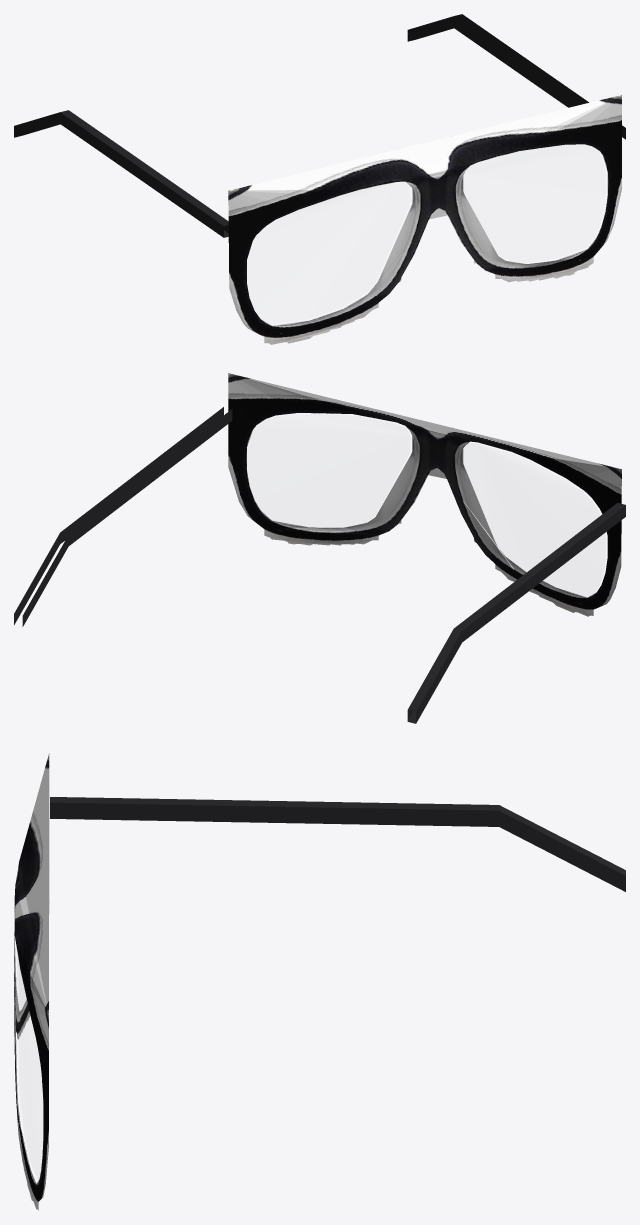
The model's file is gothamstyle-matte-collection-254_crystal-matte-black.glb.
The picture shows the model from 3 angles, top to bottom: view 1: azimuth 30°, elevation 25°; view 2: azimuth 150°, elevation 25°; view 3: azimuth 270°, elevation 25°; orthographic projection. The views are drawn at different scales.
Visible parts, largest first — view 1: frame_front, temple_viewer_left, temple_viewer_right; view 2: frame_front, temple_viewer_left, temple_viewer_right; view 3: temple_viewer_left, frame_front.
Part boxes in pixels (x1=…): frame_front: x1=228, y1=95, x2=621, y2=344; temple_viewer_left: x1=14, y1=110, x2=228, y2=237; temple_viewer_right: x1=407, y1=14, x2=625, y2=139; frame_front: x1=228, y1=373, x2=621, y2=616; temple_viewer_left: x1=407, y1=503, x2=625, y2=723; temple_viewer_right: x1=14, y1=407, x2=232, y2=626; temple_viewer_left: x1=50, y1=797, x2=625, y2=891; frame_front: x1=14, y1=753, x2=49, y2=1210.
Size of the model in its own units: 0.1416 by 0.0544 by 0.136.
Materials: 3 (2 with a texture image).
